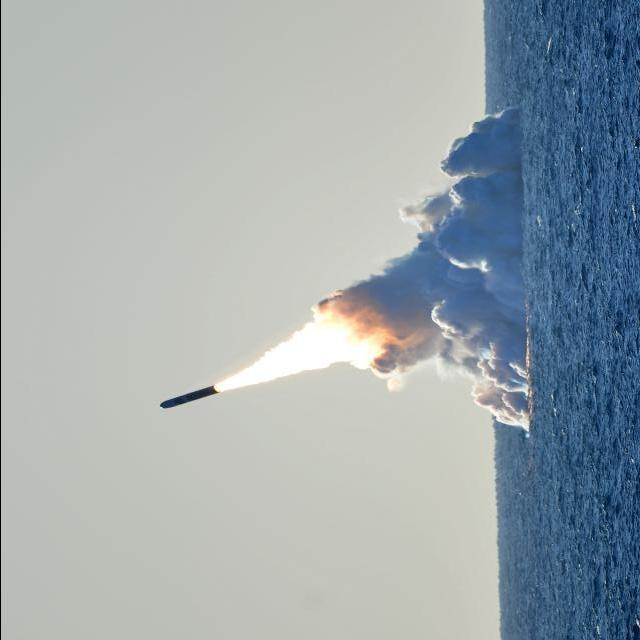Missile: (156, 382, 217, 416)
